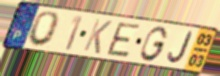1: (65, 15, 85, 52)
E: (105, 21, 142, 59)
G: (139, 25, 170, 63)
J: (166, 30, 195, 65)
K: (81, 17, 114, 56)
O: (26, 10, 62, 48)
